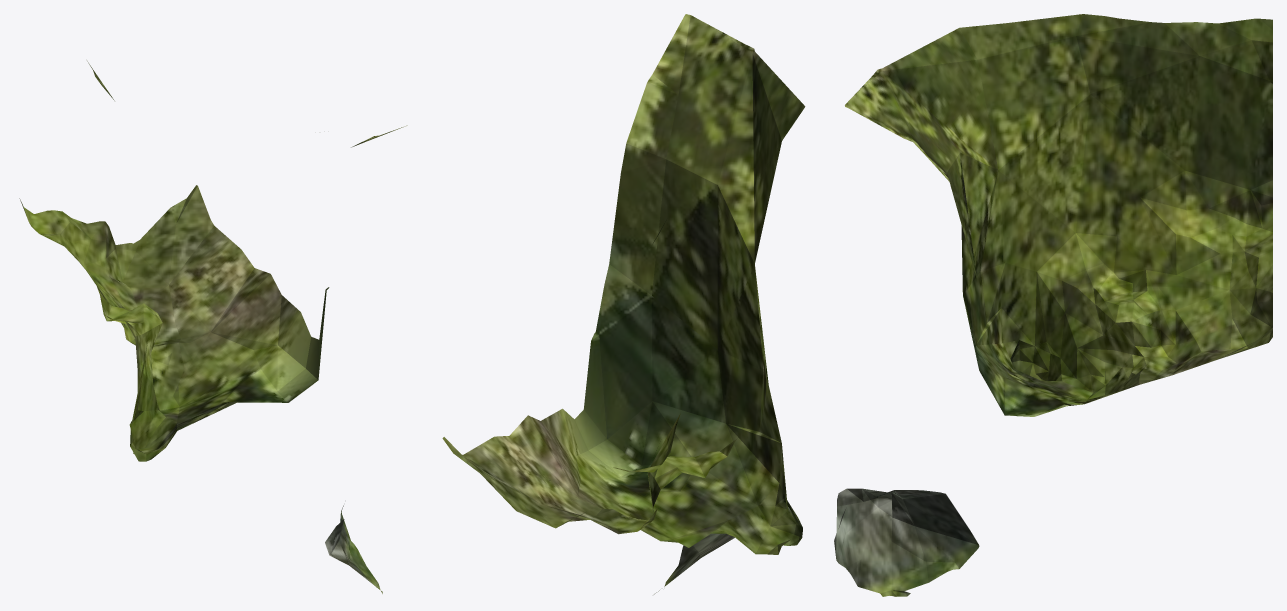
3 renders of one model, left to right at view 1: azimuth 30°, elevation 25°; view 2: azimuth 150°, elevation 25°; view 3: azimuth 270°, elevation 25°, orthographic. The views are drawn at different scales.
Bounding box in the file's own units: 1.2 × 2.95 × 2.39.
2 materials, 2 textured.
